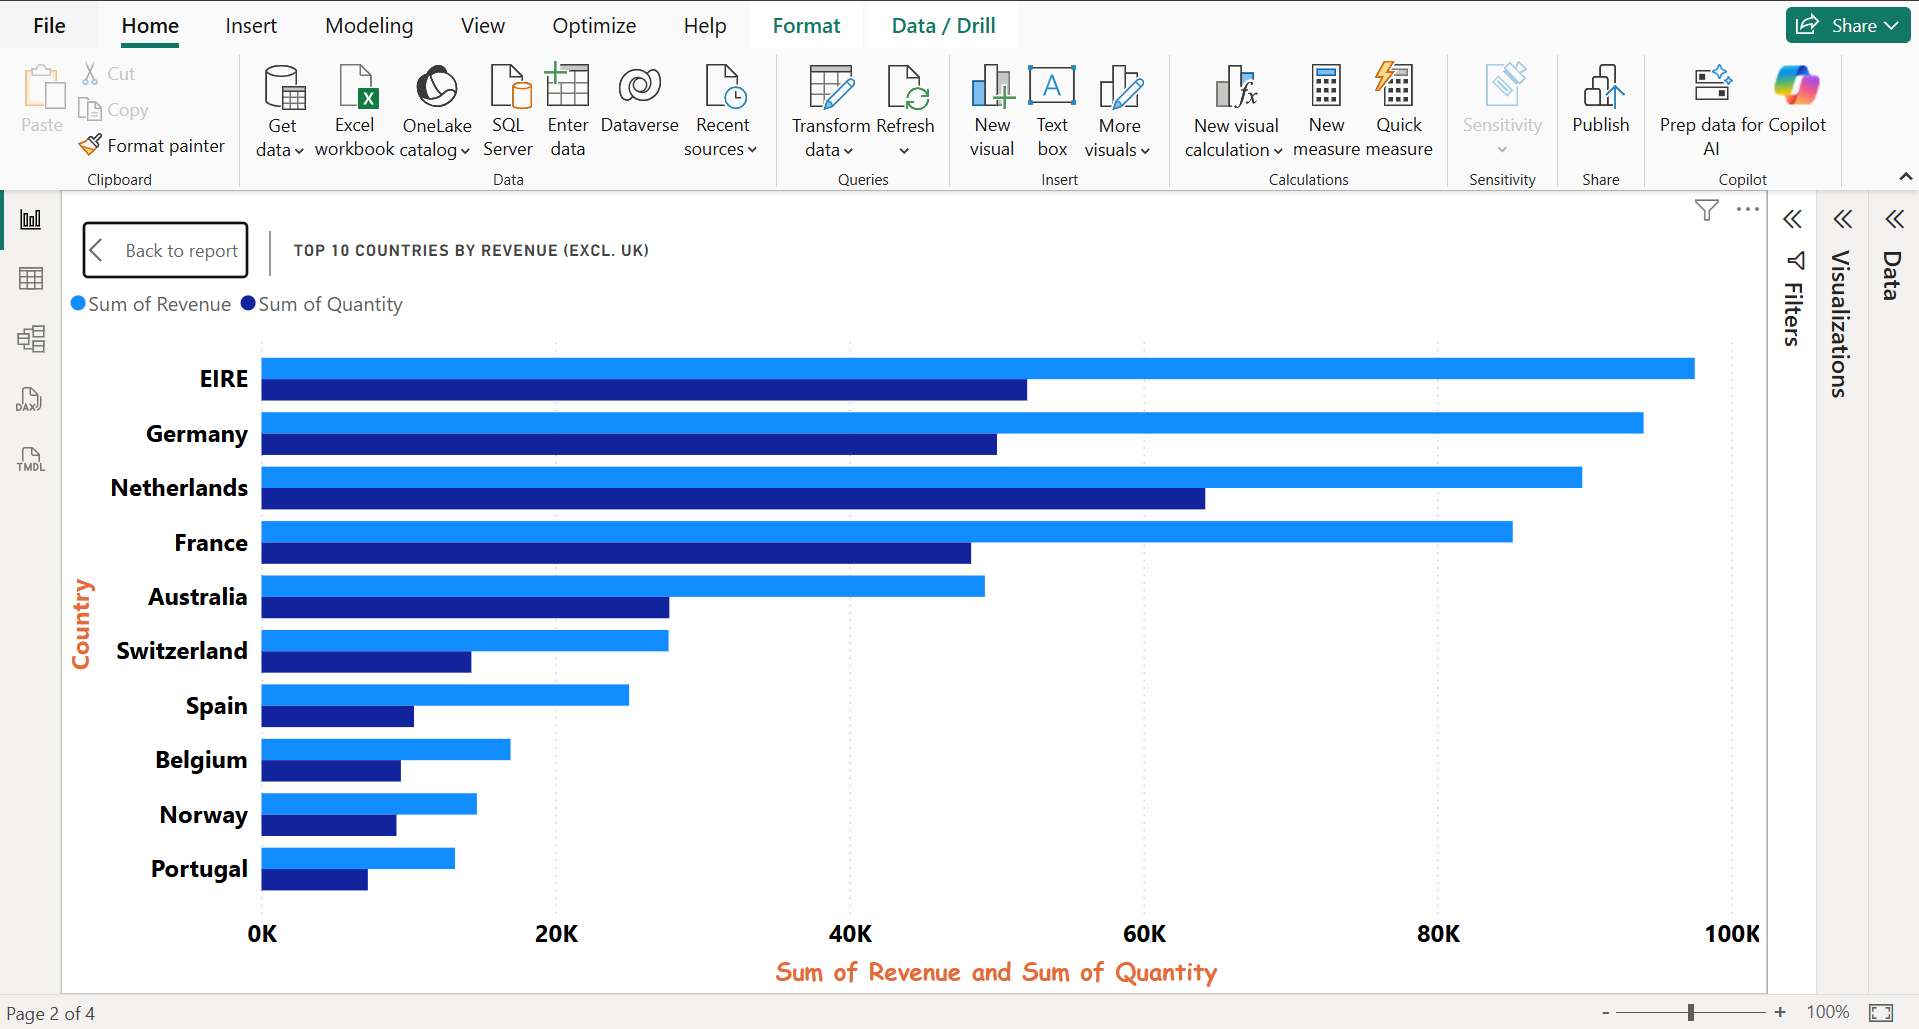

Layout of this report page (visuals, bound fields, positions):
{"tool":"powerbi","page":{"name":"Q2","canvas":[1280,720],"ordinal":1},"visuals":[{"type":"clusteredBarChart","title":"Top 10 Countries by Revenue (Excl. UK)","fields":{"Category":["Online Retail Data Set.Country"],"Y":["Sum(Online Retail Data Set.Revenue)","Sum(Online Retail Data Set.Quantity)"]},"box":[0,0,1280,720],"z":0}]}

Visuals, with their boxes on the page's 1280x720 design canvas (x1, y1, x2, y2). These are canvas units, not pixel positions in the 1919x1029 screenshot, which may show the page scaled, cropped or inside an application window:
"Top 10 Countries by Revenue (Excl. UK)" clusteredBarChart: (0,0,1280,720)
